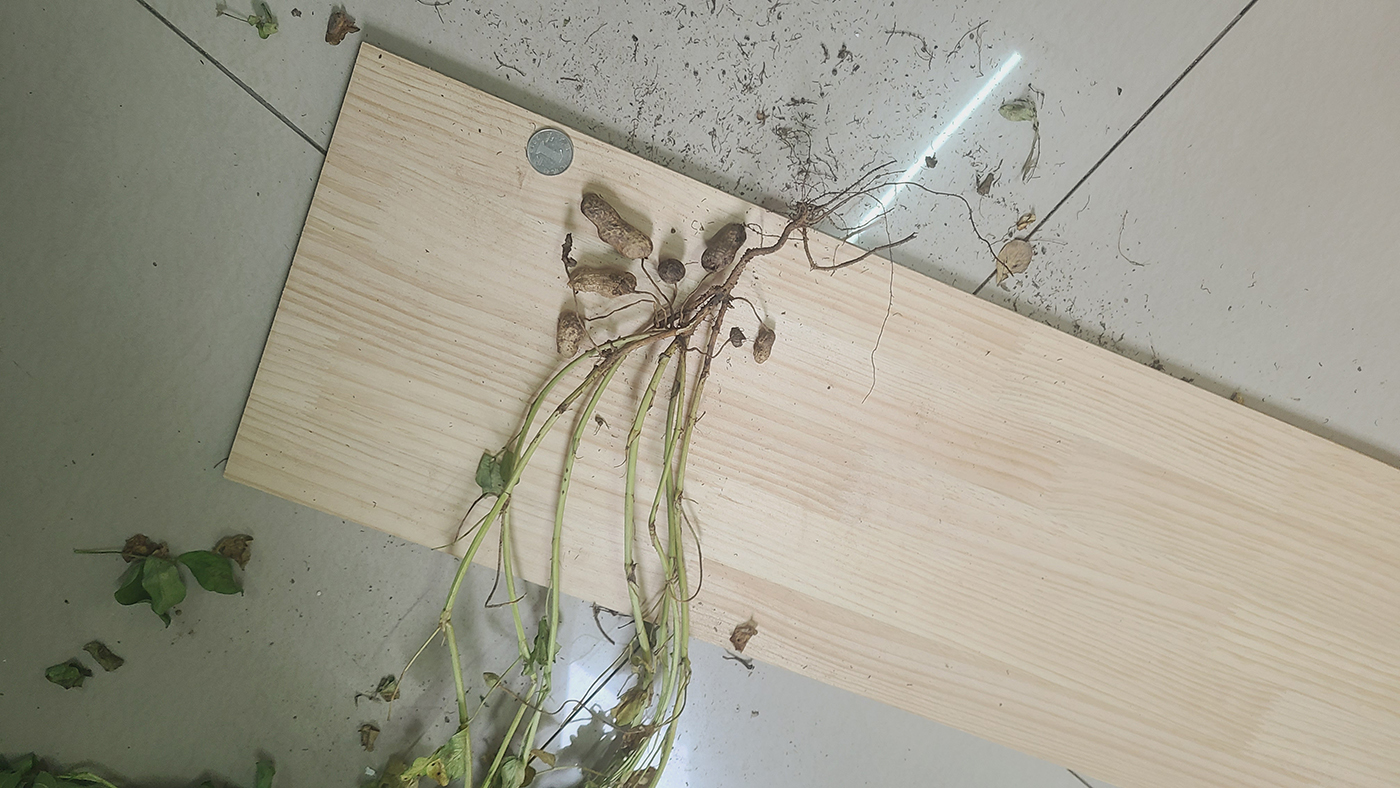h: (555, 307, 584, 358)
l: (581, 190, 654, 260), (700, 222, 747, 273), (567, 265, 638, 298), (658, 258, 686, 285), (754, 328, 775, 363), (561, 233, 578, 265), (730, 327, 746, 349)
